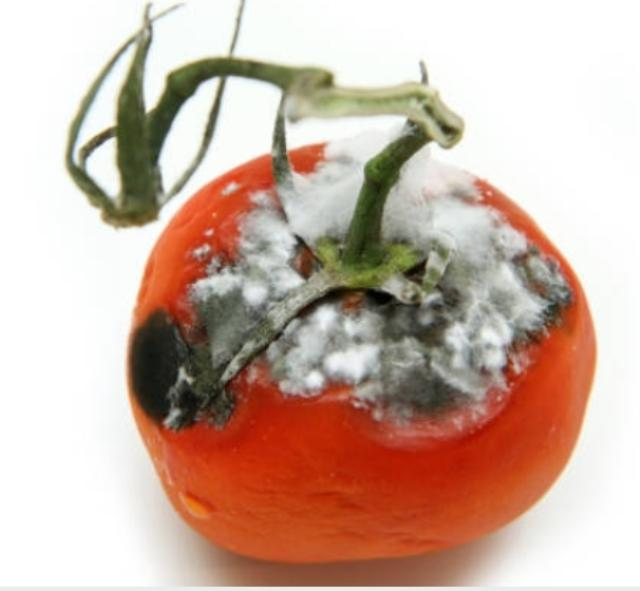defect: (119, 138, 600, 569)
